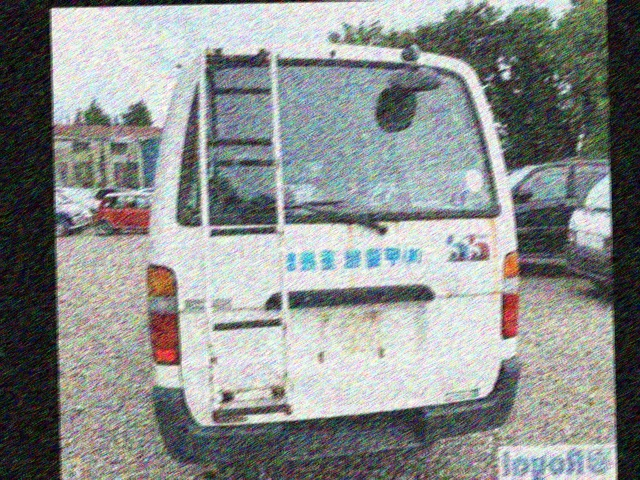van: (138, 37, 524, 466)
